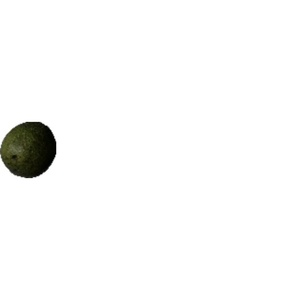abacate: (1, 119, 57, 183)
